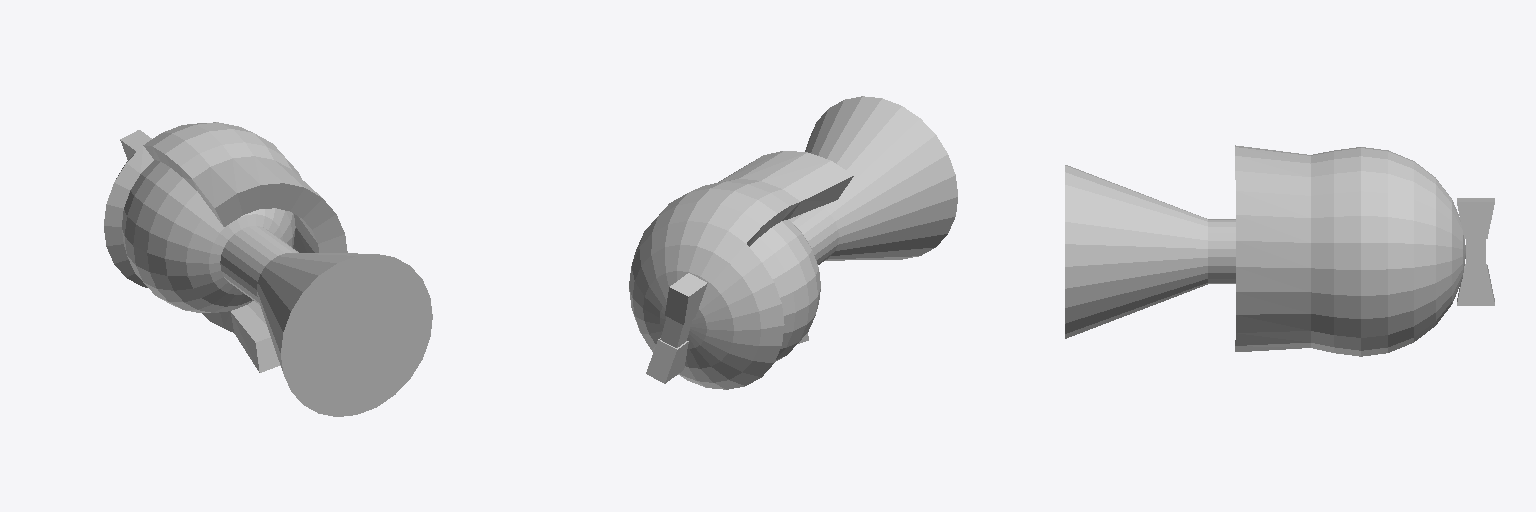
File: daughter_rev2.obj
3 renders of one model, left to right at view 1: azimuth 30°, elevation 25°; view 2: azimuth 150°, elevation 25°; view 3: azimuth 270°, elevation 25°, orthographic.
Parts seen in each view (by area): view 1: Mesh; view 2: Mesh; view 3: Mesh.
Part boxes in pixels (left/top/right/bottom): Mesh: left=104, top=122, right=432, bottom=416; Mesh: left=629, top=96, right=957, bottom=389; Mesh: left=1065, top=145, right=1494, bottom=356.
Bounding box in the file's own units: 0.5971 × 0.6511 × 1.32.